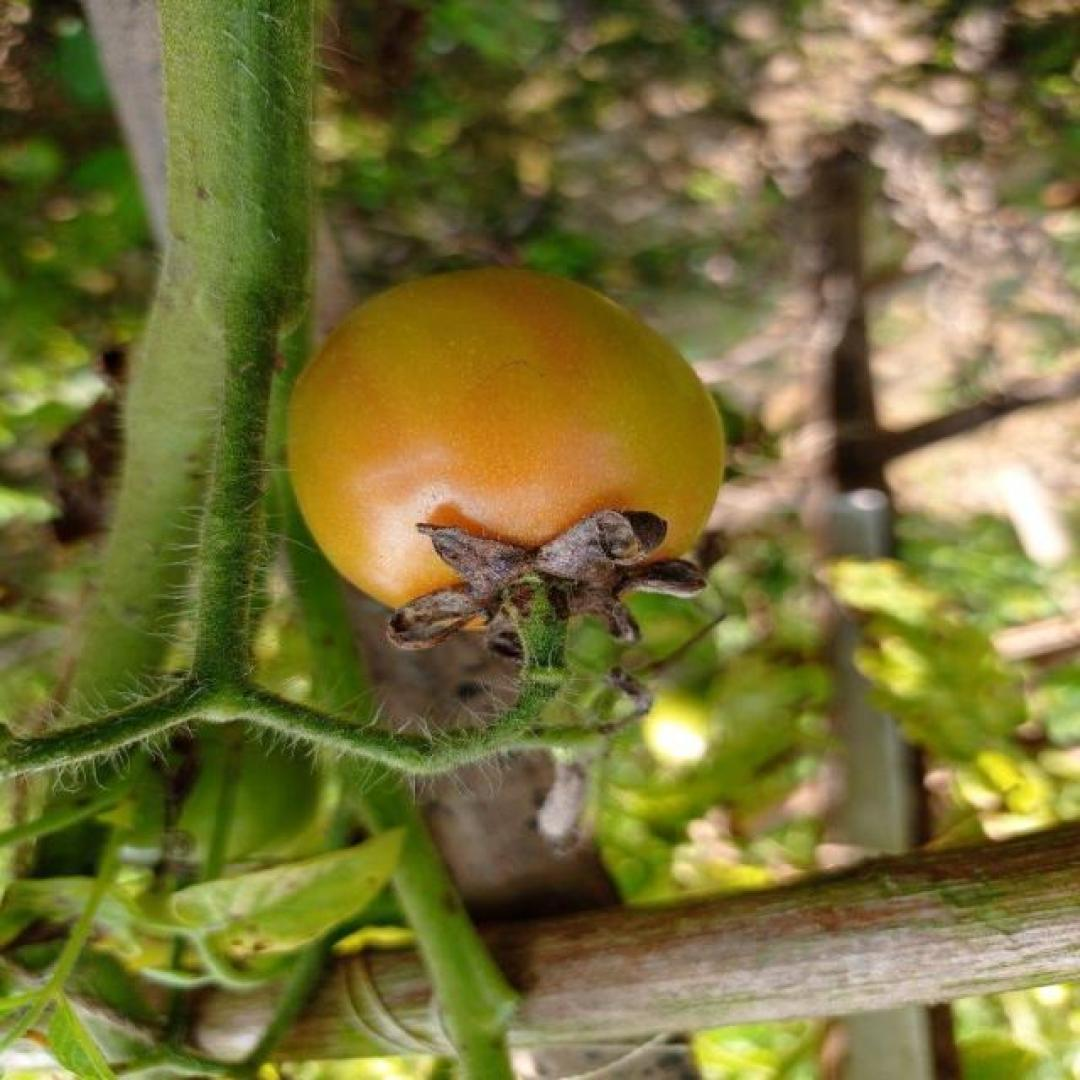setengah_matang: (284, 265, 730, 636)
